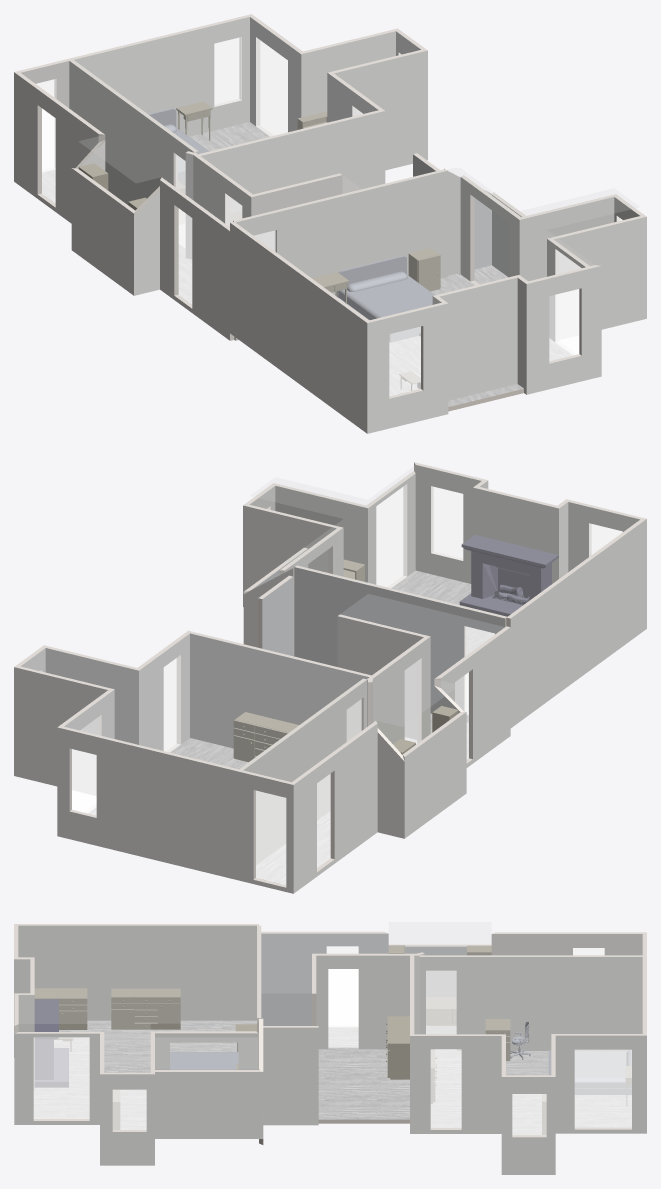
3 views of the same model, one above another, from view 1: azimuth 30°, elevation 25°; view 2: azimuth 150°, elevation 25°; view 3: azimuth 270°, elevation 25° (orthographic). The views are drawn at different scales.
Visible parts, largest first — view 1: ceiling_Bedroom_1, ceiling_Bedroom_2, wall_24 (×2), wall_26 (×2), wall_0, ceiling_Other_0, wall_1, wall_28 (×2), wall_9, wall_10, wall_11, wall_25 (+33 smaller); view 2: ceiling_Bedroom_1, ceiling_Bedroom_2, wall_0, wall_24 (×2), wall_1, wall_26 (×2), ceiling_Other_0, wall_2, wall_28, wall_32, door_5 (×2), fireplace0 (+31 smaller); view 3: ceiling_Bedroom_1, ceiling_Bedroom_2, wall_24 (×2), wall_28 (×2), door_5 (×2), door_7 (×2), ceiling_Other_0, floor_Bedroom_1, wall_19, floor_Other_0 (×3), wall_7, wall_25 (×2) (+30 smaller).
Boxes of the visible parts, bbox=[...] form: ceiling_Bedroom_1: bbox=[236, 168, 638, 319]; ceiling_Bedroom_2: bbox=[72, 17, 420, 153]; wall_24 (×2): bbox=[230, 221, 368, 433]; wall_26 (×2): bbox=[233, 169, 447, 340]; wall_0: bbox=[74, 17, 249, 136]; ceiling_Other_0: bbox=[22, 61, 249, 207]; wall_1: bbox=[201, 111, 385, 213]; wall_28 (×2): bbox=[69, 60, 197, 204]; wall_9: bbox=[439, 277, 517, 400]; wall_10: bbox=[367, 303, 448, 433]; wall_11: bbox=[526, 266, 601, 394]; wall_25: bbox=[160, 180, 229, 340]; ceiling_Bedroom_1: bbox=[250, 465, 639, 616]; ceiling_Bedroom_2: bbox=[22, 634, 366, 768]; wall_0: bbox=[57, 727, 238, 880]; wall_24 (×2): bbox=[507, 518, 646, 727]; wall_1: bbox=[190, 633, 368, 748]; wall_26 (×2): bbox=[294, 565, 506, 722]; ceiling_Other_0: bbox=[242, 637, 475, 781]; wall_2: bbox=[293, 723, 377, 893]; wall_28: bbox=[243, 680, 367, 864]; wall_32: bbox=[14, 667, 107, 786]; door_5 (×2): bbox=[376, 484, 406, 587]; fireplace0: bbox=[459, 534, 558, 616]; ceiling_Bedroom_1: bbox=[19, 926, 258, 1063]; ceiling_Bedroom_2: bbox=[415, 956, 641, 1074]; wall_24 (×2): bbox=[15, 924, 258, 1020]; wall_28 (×2): bbox=[419, 955, 642, 1050]; door_5 (×2): bbox=[34, 1037, 89, 1118]; door_7 (×2): bbox=[575, 1050, 631, 1127]; ceiling_Other_0: bbox=[312, 922, 641, 955]; floor_Bedroom_1: bbox=[34, 1020, 256, 1129]; wall_19: bbox=[155, 1072, 263, 1138]; floor_Other_0 (×3): bbox=[318, 1026, 456, 1123]; wall_7: bbox=[410, 1036, 501, 1133]; wall_25 (×2): bbox=[261, 931, 388, 1025].
Size of the model in its own units: 8.58 by 2.7 by 14.65.
Materials: 100 (9 with a texture image).
